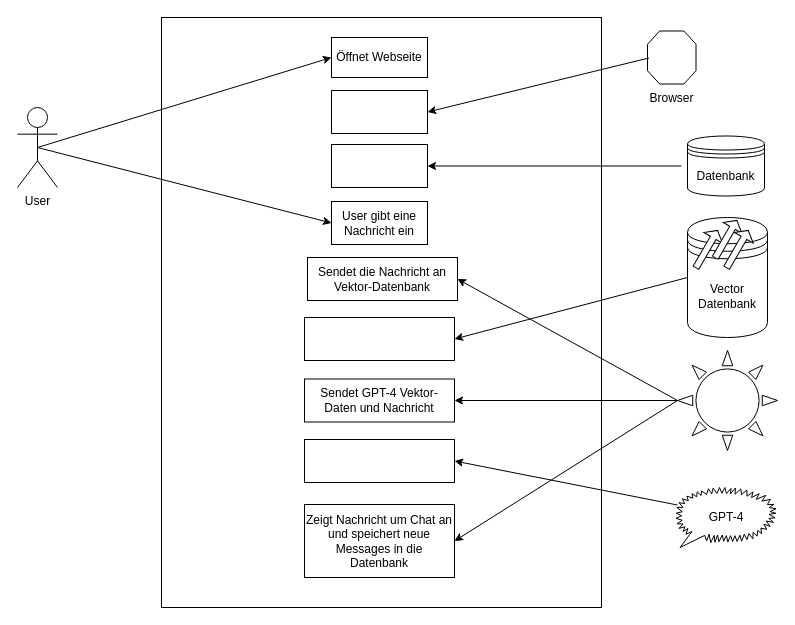
Some shapes in this 795 by 625 pixel diagram are drawn without their labels. Here are the shapes that lost their labels. From the top down, the centre of each, then its label:
the point at 379,112: Cookies richten Einstellungen ein
the point at 379,166: Alte Nachrichten werden geladen
the point at 379,338: Gibt die am naheliegendsten Vektor-Daten zurück
the point at 727,400: Backend
the point at 379,460: Gibt Nachricht zurück
